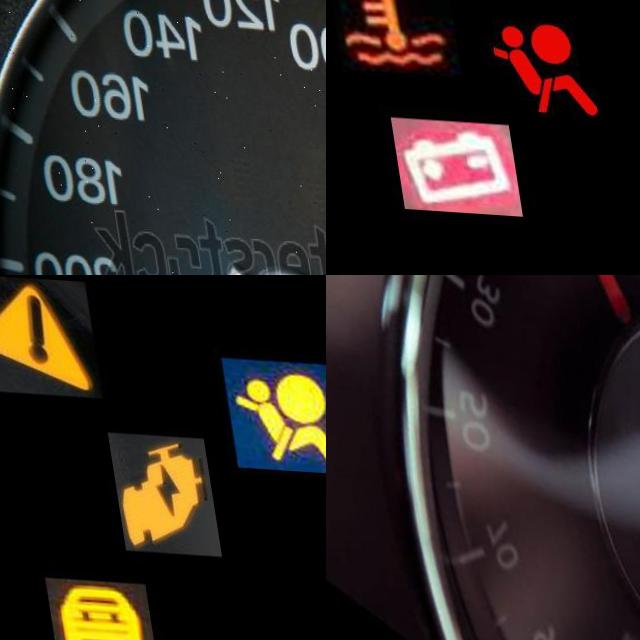Central Warning lamp: (0, 275, 98, 396)
Engine cooling system: (326, 0, 447, 75)
